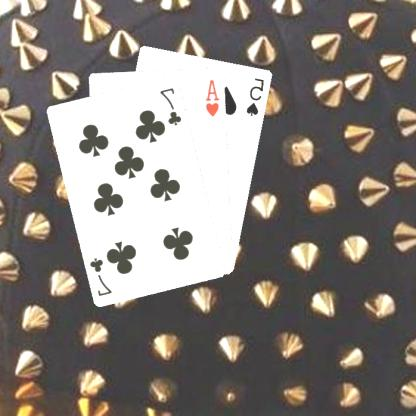5S: (245, 75, 268, 118)
7C: (89, 254, 115, 298), (159, 85, 185, 127)
AH: (204, 76, 223, 118)
